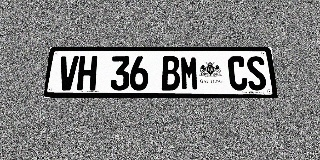3: (110, 56, 130, 90)
6: (129, 56, 148, 90)
B: (161, 56, 180, 90)
C: (227, 56, 248, 90)
H: (77, 56, 98, 90)
M: (180, 56, 199, 90)
S: (246, 56, 267, 90)
V: (57, 56, 79, 90)
